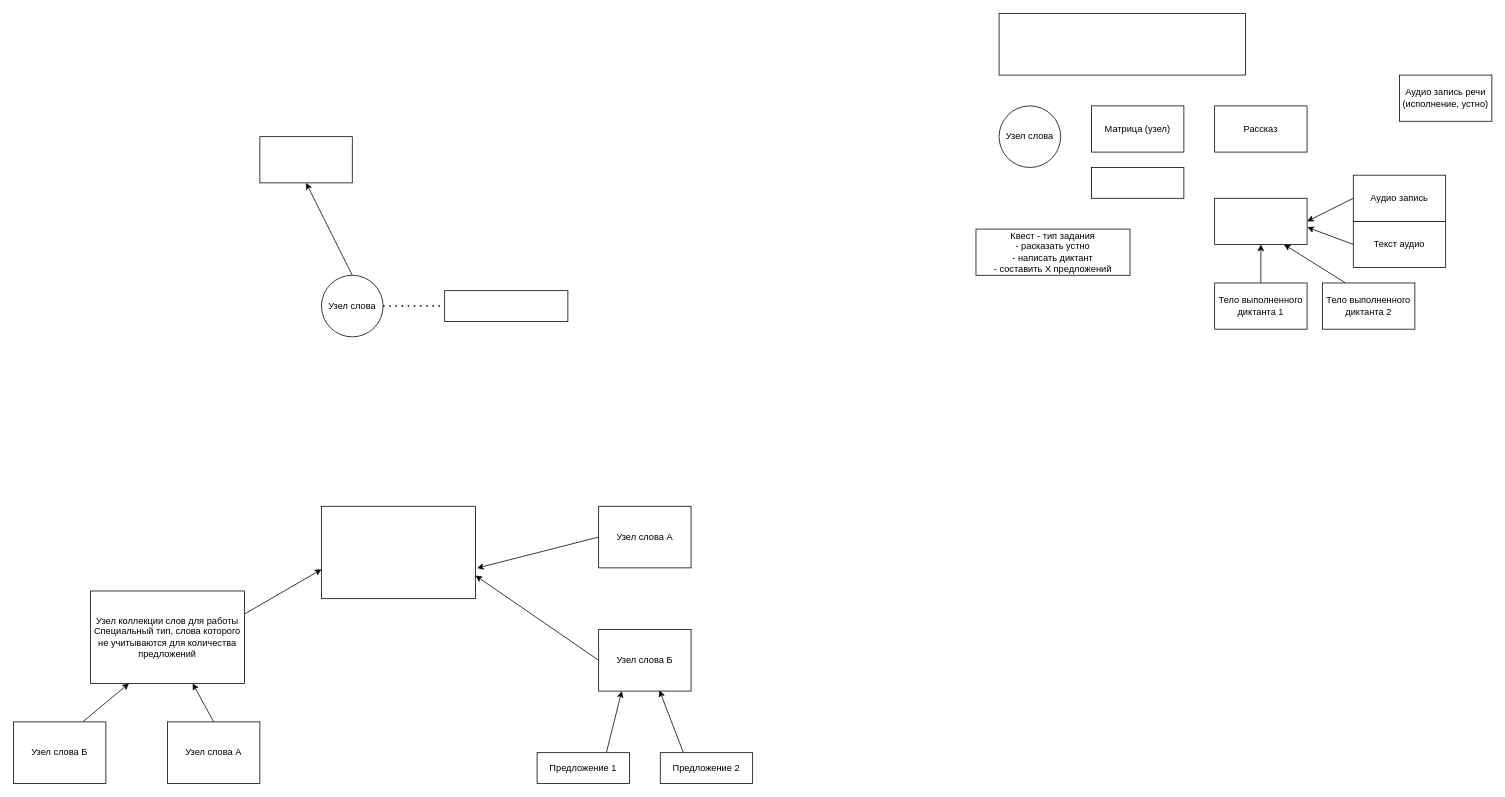
Image size: 1505x797. Some labels were removed from this diagram. The centre of each missing label's shape, as x and y in pixels:
Аудио диктант: point (1260, 221)
Группировка -матрица; то есть узел группы текст для разбора: point (398, 552)
Документ слова: point (305, 159)
Предложение: point (1137, 182)
Типы объектов пользователя Объекты сцены: point (1121, 44)
Уровень слова (кол предложений): point (506, 305)
